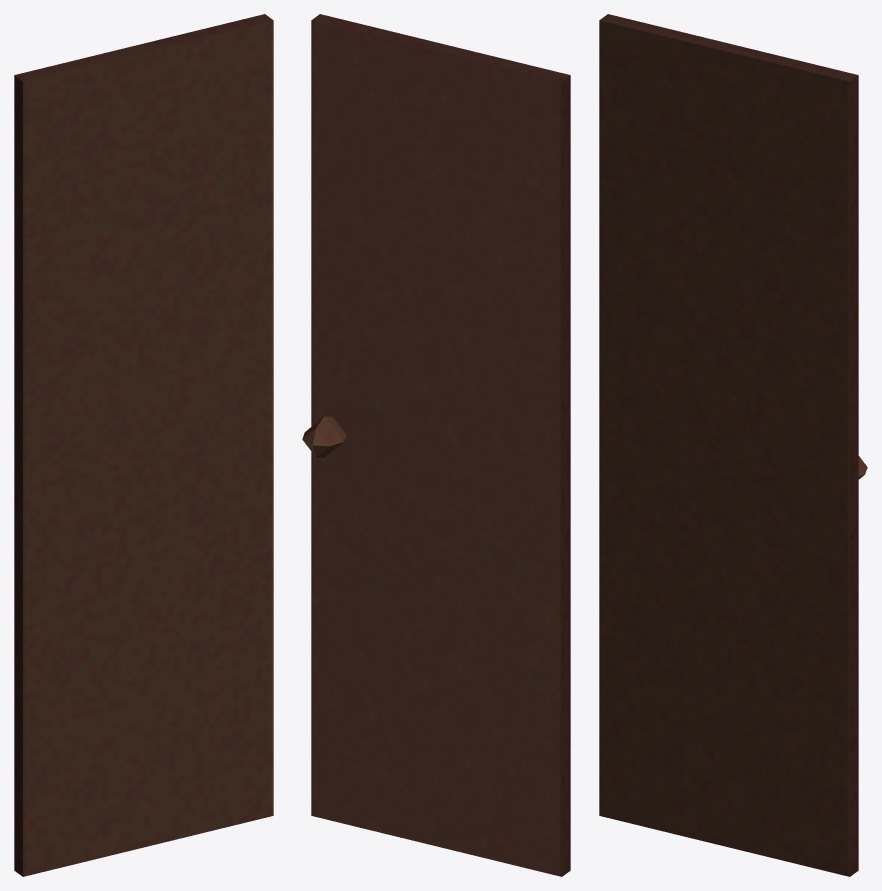
The model's file is tall_cabinet_door.fbx.
3 renders of one model, left to right at view 1: azimuth 30°, elevation 25°; view 2: azimuth 150°, elevation 25°; view 3: azimuth 330°, elevation 25°, orthographic.
Parts seen in each view (by area): view 1: Tall Cabinet Door; view 2: Tall Cabinet Door; view 3: Tall Cabinet Door.
Boxes of the visible parts, x1,y1,x2,y2 form: Tall Cabinet Door: (14,14,273,876); Tall Cabinet Door: (302,14,570,876); Tall Cabinet Door: (599,14,867,876).
Size of the model in its own units: 0.8299 by 0.162 by 2.52.
1 material, 1 textured.
